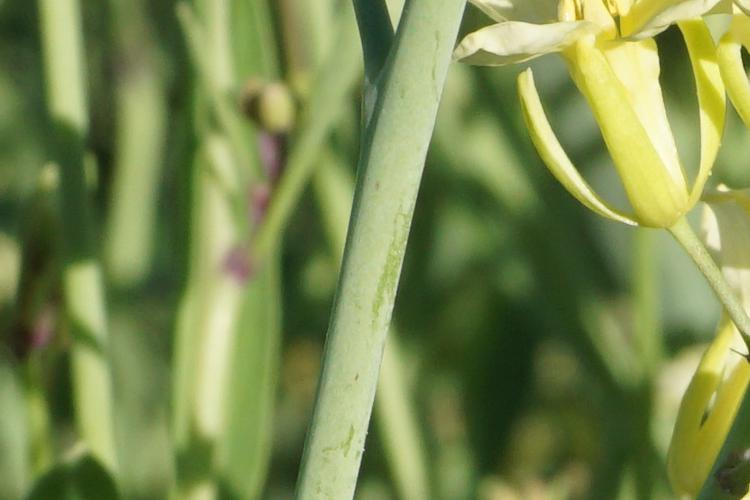yellow: (476, 7, 746, 228)
